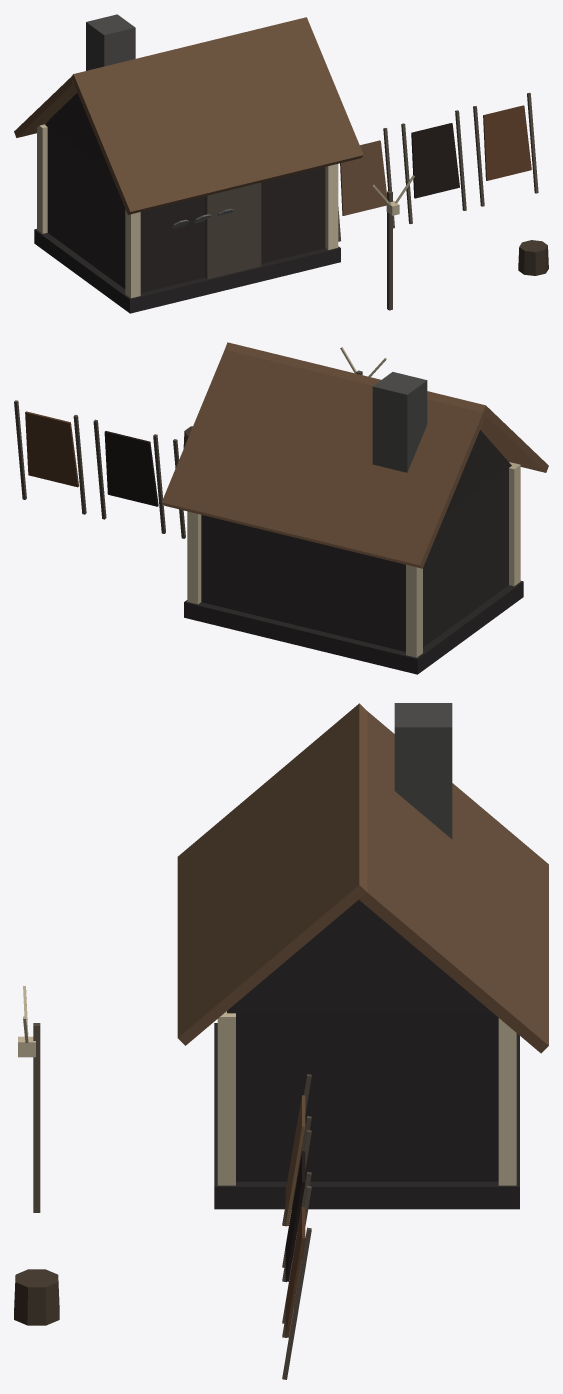
The model's file is walk_ashen_trapper.glb.
3 views of the same model, one above another, from view 1: azimuth 30°, elevation 25°; view 2: azimuth 150°, elevation 25°; view 3: azimuth 270°, elevation 25° (orthographic). The views are drawn at different scales.
Visible parts, largest first — view 1: walk_ashen_trapper, walk_ashen_trapper_roof; view 2: walk_ashen_trapper, walk_ashen_trapper_roof; view 3: walk_ashen_trapper, walk_ashen_trapper_roof.
Boxes of the visible parts, x1,y1,x2,y2 form: walk_ashen_trapper: (34,92,548,313); walk_ashen_trapper_roof: (14,14,363,214); walk_ashen_trapper: (14,347,523,674); walk_ashen_trapper_roof: (161,342,548,568); walk_ashen_trapper: (14,899,519,1379); walk_ashen_trapper_roof: (177,703,548,1053).
Size of what is drawn, in the model's own units: 9.83 by 4.99 by 6.48.
Materials: 2 (2 with a texture image).
